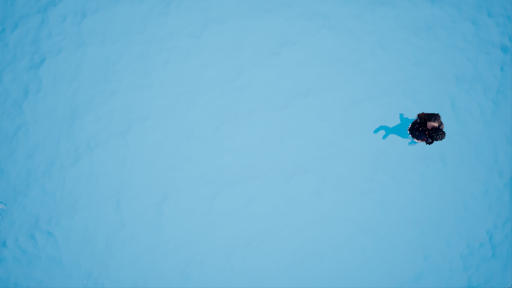person: (377, 110, 447, 150)
